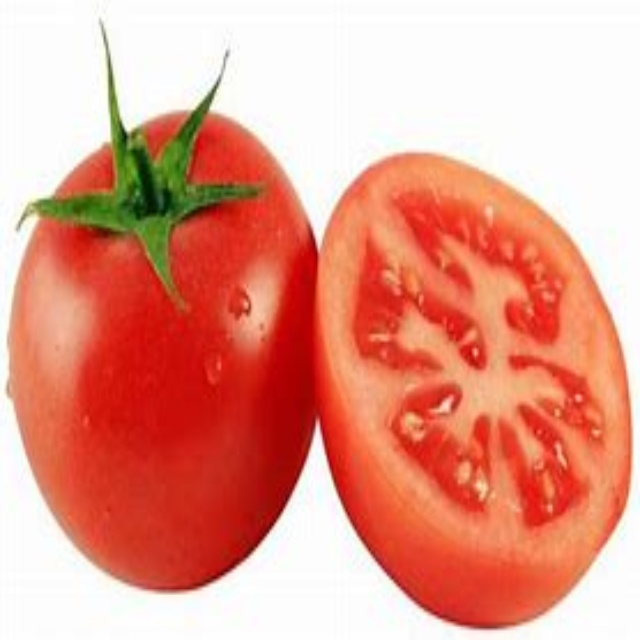tomato: (12, 22, 312, 598), (315, 148, 631, 622)
